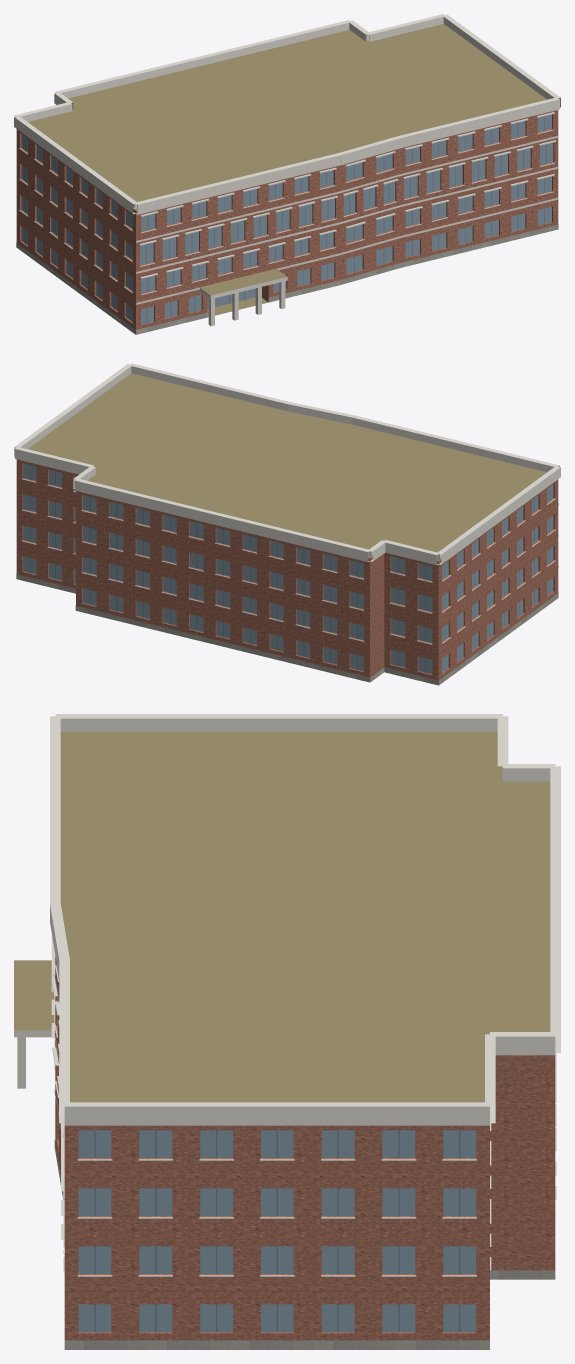
3 renders of one model, top to bottom at view 1: azimuth 30°, elevation 25°; view 2: azimuth 150°, elevation 25°; view 3: azimuth 270°, elevation 25°, orthographic. The views are drawn at different scales.
Visible parts, largest first — view 1: baebong__roof, baebong__wall, baebong__trim, baebong__glass, baebong__base, baebong__frame, baebong__column; view 2: baebong__wall, baebong__roof, baebong__glass, baebong__trim, baebong__base, baebong__frame; view 3: baebong__roof, baebong__wall, baebong__trim, baebong__glass, baebong__base, baebong__frame.
Part boxes in pixels (left/top/right/bottom): baebong__roof: left=28, top=24, right=546, bottom=317; baebong__wall: left=16, top=110, right=558, bottom=334; baebong__trim: left=14, top=14, right=560, bottom=304; baebong__glass: left=21, top=114, right=553, bottom=324; baebong__base: left=16, top=224, right=558, bottom=334; baebong__frame: left=25, top=116, right=546, bottom=322; baebong__column: left=208, top=281, right=285, bottom=326; baebong__wall: left=16, top=459, right=558, bottom=685; baebong__roof: left=28, top=373, right=546, bottom=561; baebong__glass: left=23, top=463, right=553, bottom=673; baebong__trim: left=14, top=363, right=560, bottom=644; baebong__base: left=16, top=574, right=558, bottom=685; baebong__frame: left=30, top=465, right=549, bottom=672; baebong__roof: left=14, top=732, right=550, bottom=1102; baebong__wall: left=55, top=956, right=555, bottom=1340; baebong__trim: left=14, top=714, right=560, bottom=1276; baebong__glass: left=78, top=1130, right=475, bottom=1331; baebong__base: left=54, top=1139, right=555, bottom=1349; baebong__frame: left=94, top=1130, right=460, bottom=1331.
Size of the model in its own units: 53.75 by 15.67 by 31.65.
Materials: 9 (2 with a texture image).
